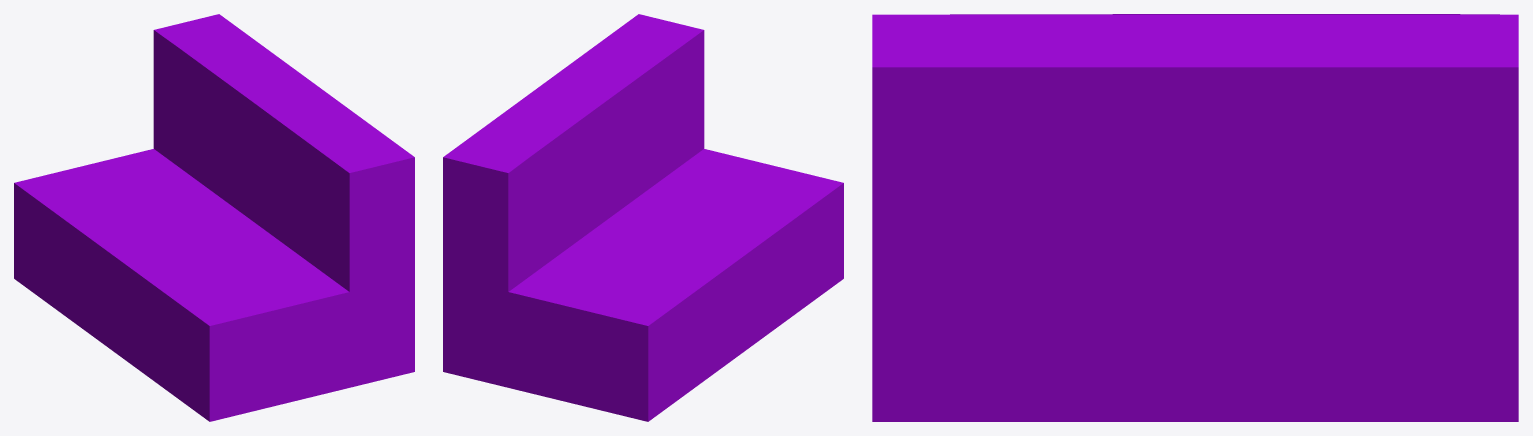
The model's file is sillonmorado2.fbx.
3 renders of one model, left to right at view 1: azimuth 30°, elevation 25°; view 2: azimuth 150°, elevation 25°; view 3: azimuth 270°, elevation 25°, orthographic. The views are drawn at different scales.
Parts seen in each view (by area): view 1: Cube.004; view 2: Cube.004; view 3: Cube.004.
Boxes of the visible parts, x1,y1,x2,y2 form: Cube.004: (14,14,414,421); Cube.004: (443,14,843,421); Cube.004: (872,14,1518,421).
Bounding box in the file's own units: 723 × 724 × 1194.
